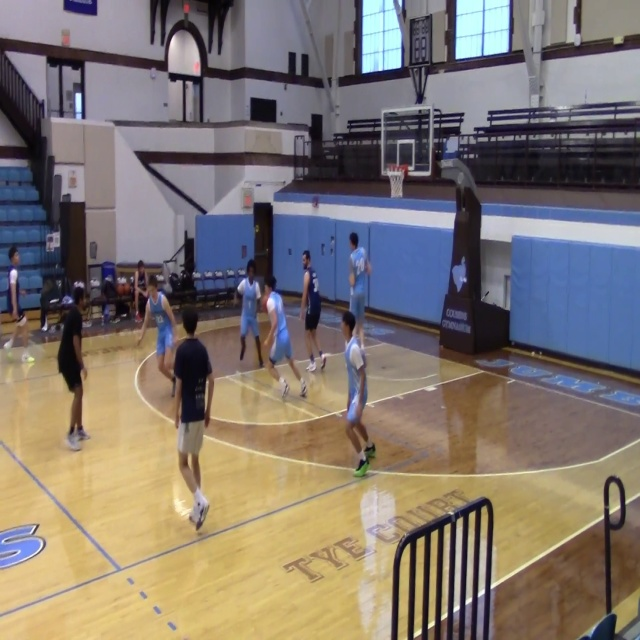Basketball: (116, 277, 130, 295), (21, 354, 35, 363), (27, 356, 35, 362)
